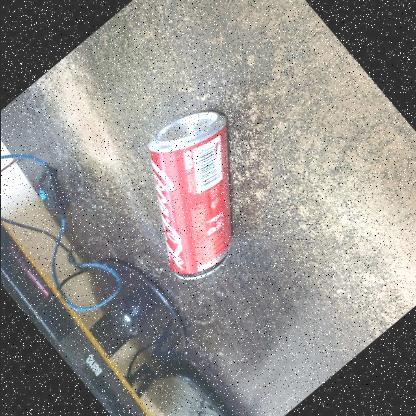Can: (113, 110, 250, 280)
